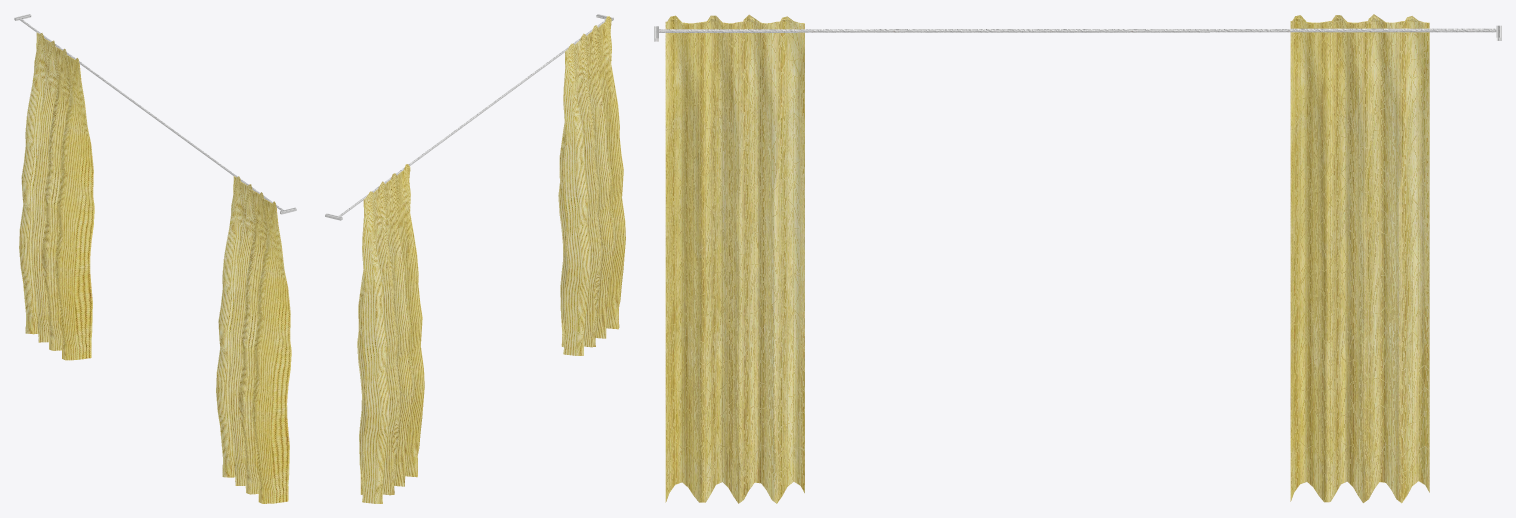
The model's file is cortinas.glb.
3 views of the same model, side by side, from view 1: azimuth 30°, elevation 25°; view 2: azimuth 150°, elevation 25°; view 3: azimuth 270°, elevation 25° (orthographic). The views are drawn at different scales.
Visible parts, largest first — view 1: pasted__Cortina2_pasted__CurtainTexture_0, pasted__Cortina3_pasted__CurtainTexture_0, Pared1_WallTexture_0.107; view 2: pasted__Cortina3_pasted__CurtainTexture_0, pasted__Cortina2_pasted__CurtainTexture_0, Pared1_WallTexture_0.107; view 3: pasted__Cortina2_pasted__CurtainTexture_0, pasted__Cortina3_pasted__CurtainTexture_0, Pared1_WallTexture_0.107.
Boxes of the visible parts, x1,y1,x2,y2 form: pasted__Cortina2_pasted__CurtainTexture_0: (216, 176, 291, 503); pasted__Cortina3_pasted__CurtainTexture_0: (19, 32, 94, 360); Pared1_WallTexture_0.107: (14, 14, 296, 214); pasted__Cortina3_pasted__CurtainTexture_0: (357, 164, 424, 503); pasted__Cortina2_pasted__CurtainTexture_0: (558, 16, 625, 355); Pared1_WallTexture_0.107: (325, 14, 613, 220); pasted__Cortina2_pasted__CurtainTexture_0: (665, 14, 804, 503); pasted__Cortina3_pasted__CurtainTexture_0: (1290, 14, 1429, 503); Pared1_WallTexture_0.107: (654, 25, 1501, 41).
Bounding box in the file's own units: 0.2439 × 1.87 × 2.99.
2 materials, 2 textured.
